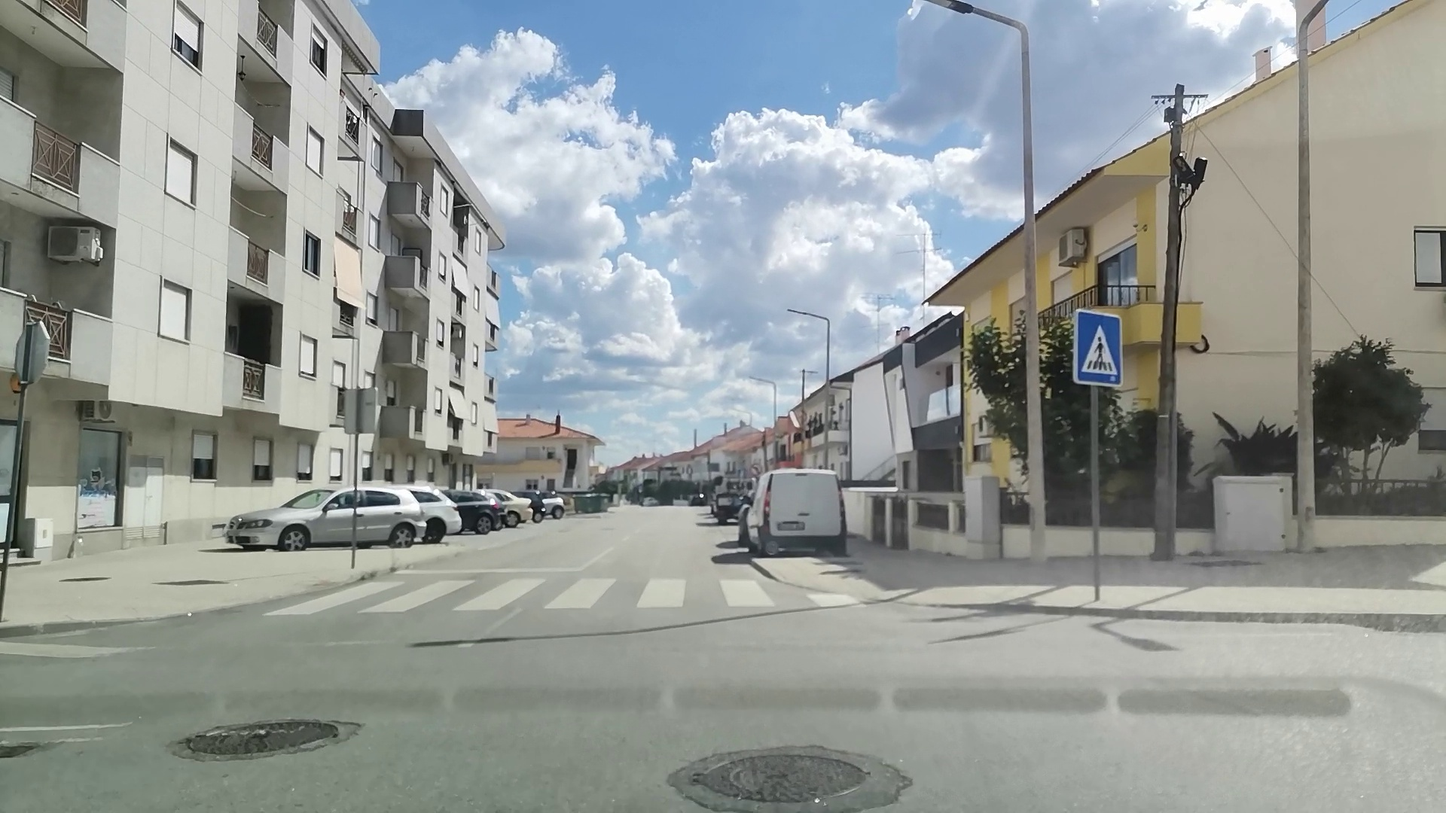Stairs: (255, 575, 869, 619)
